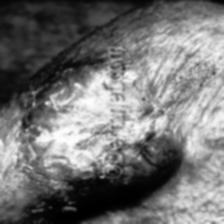Potentially Malignant Skin Tumors: (130, 52, 224, 124), (30, 104, 104, 170)
